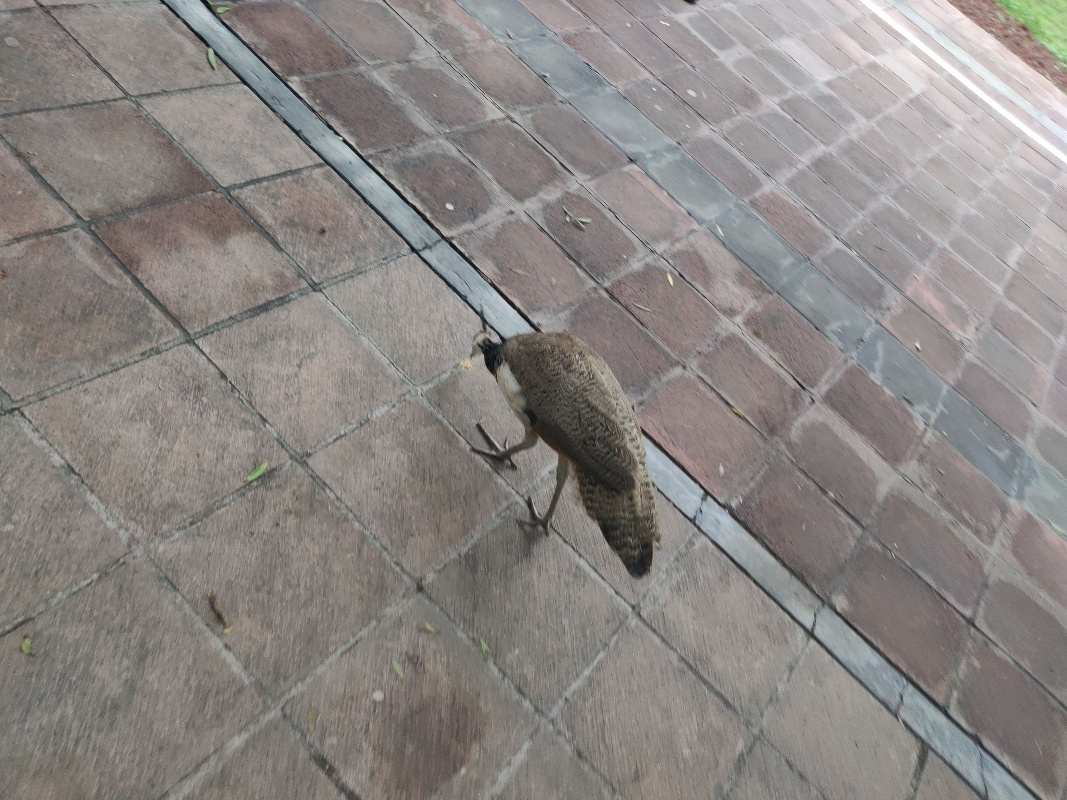pavoreal: (465, 304, 661, 590)
